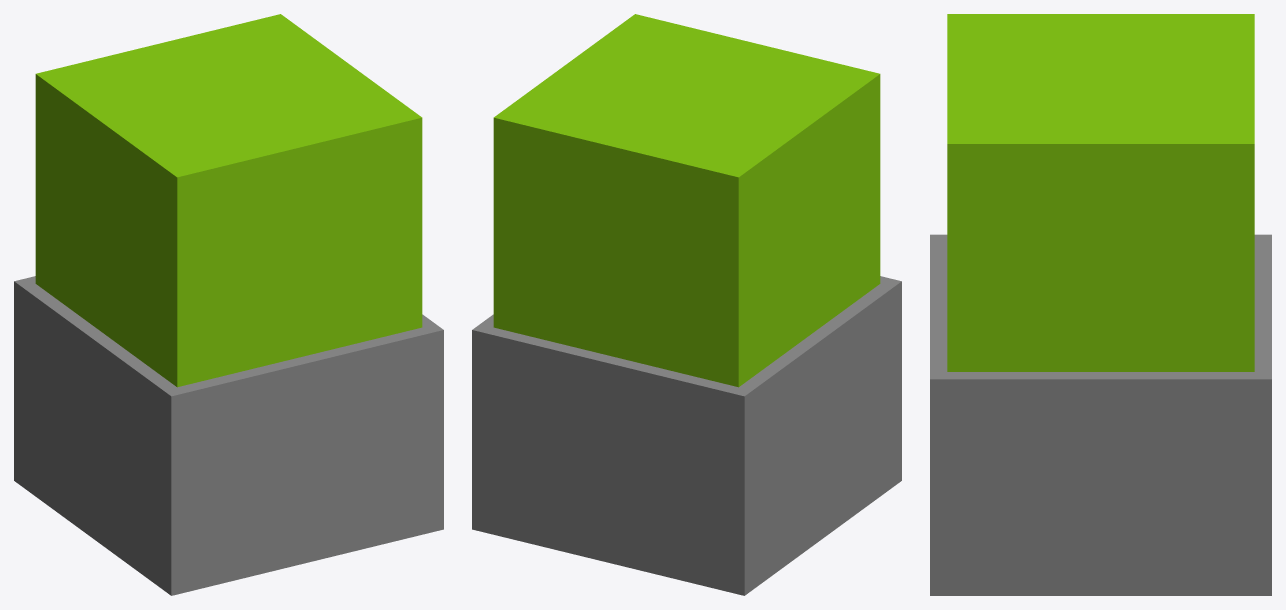
The model's file is adorn plant7.FBX.
3 renders of one model, left to right at view 1: azimuth 30°, elevation 25°; view 2: azimuth 150°, elevation 25°; view 3: azimuth 270°, elevation 25°, orthographic. The views are drawn at different scales.
Parts seen in each view (by area): view 1: adorn plant7; view 2: adorn plant7; view 3: adorn plant7.
Part boxes in pixels (x1=…): adorn plant7: x1=14, y1=14, x2=443, y2=595; adorn plant7: x1=472, y1=14, x2=901, y2=595; adorn plant7: x1=930, y1=14, x2=1271, y2=595.
Size of the model in its own units: 1 by 1.44 by 1.
